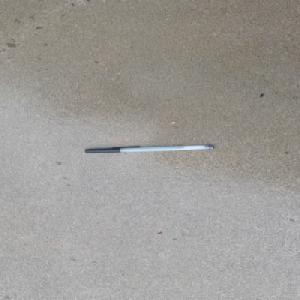Pen: (84, 144, 215, 154)
